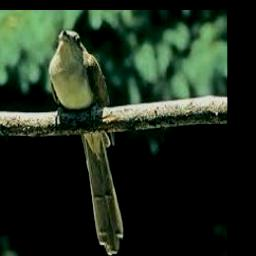Cuckoo: (48, 31, 124, 255)
